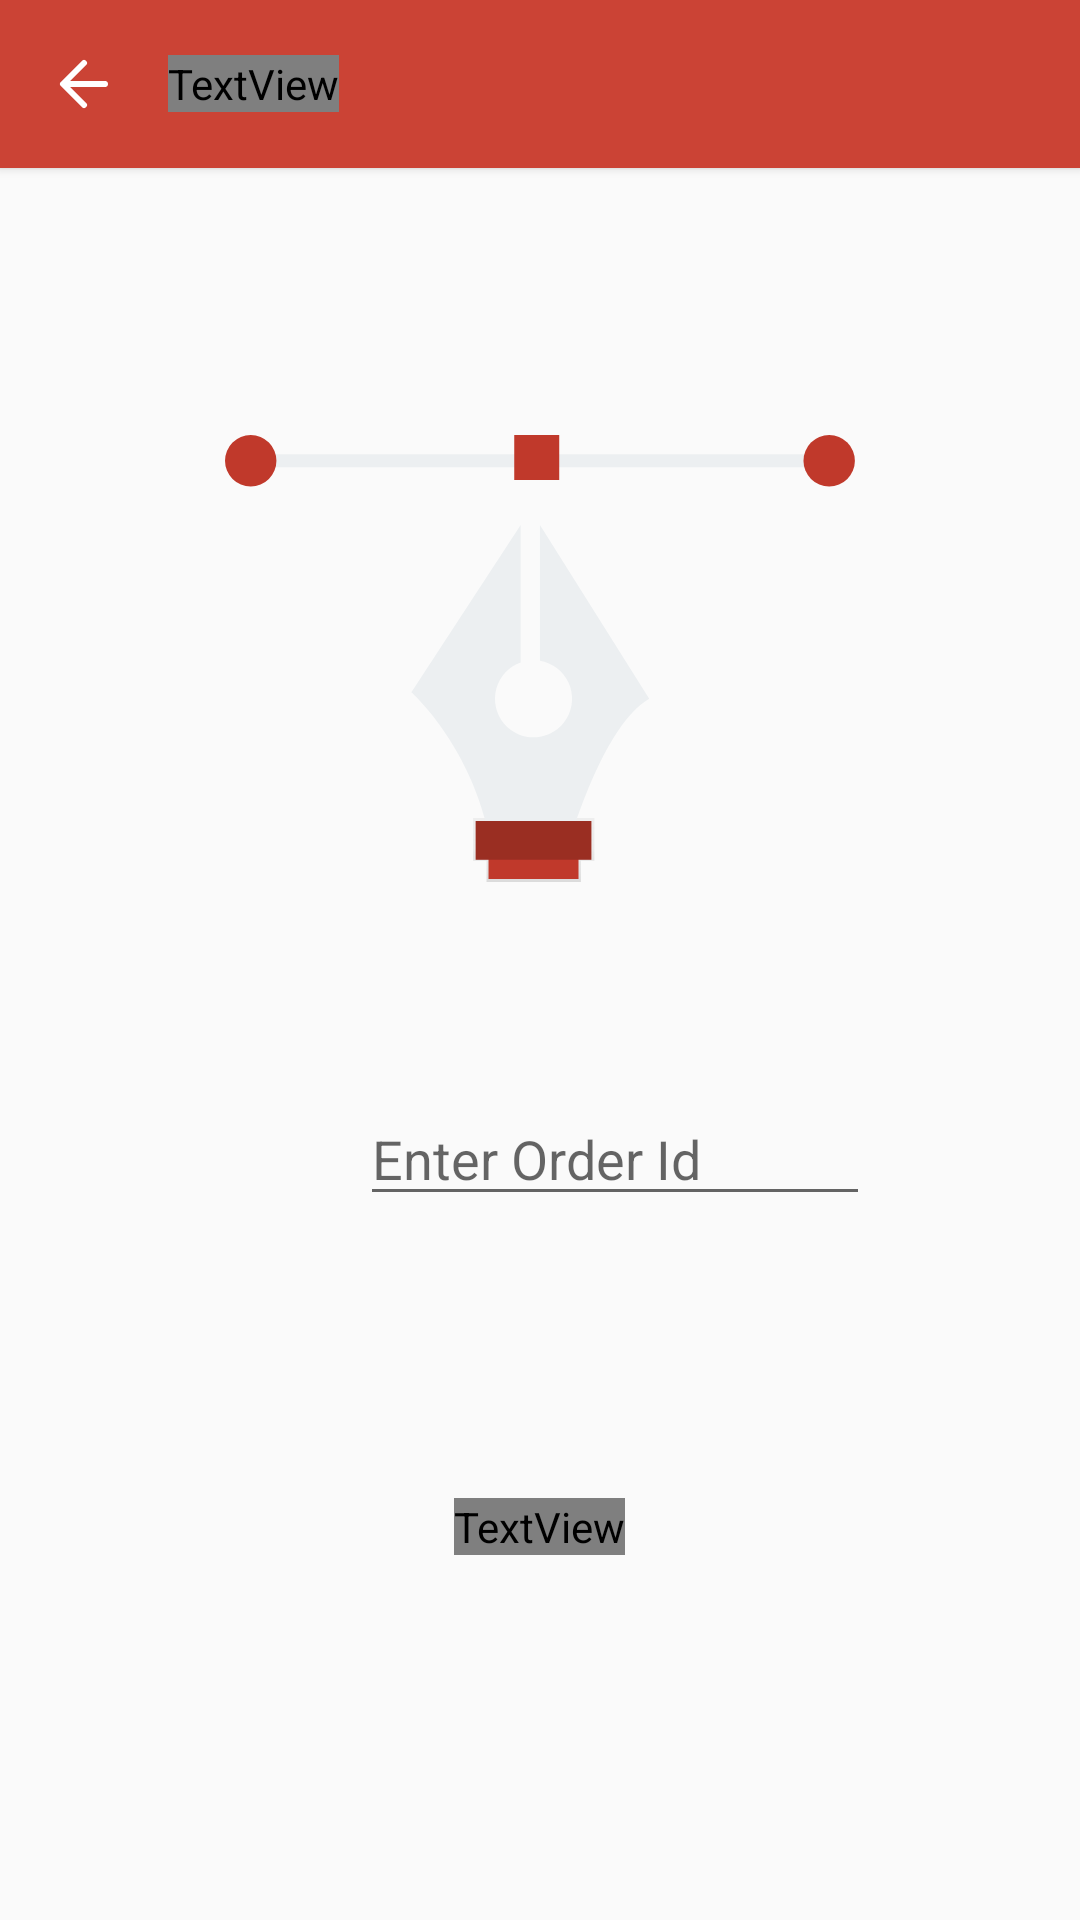

Named icons in this screenshot (1080 × 1920) and their centers, point (x, y):
arrow left: point (84, 84)
